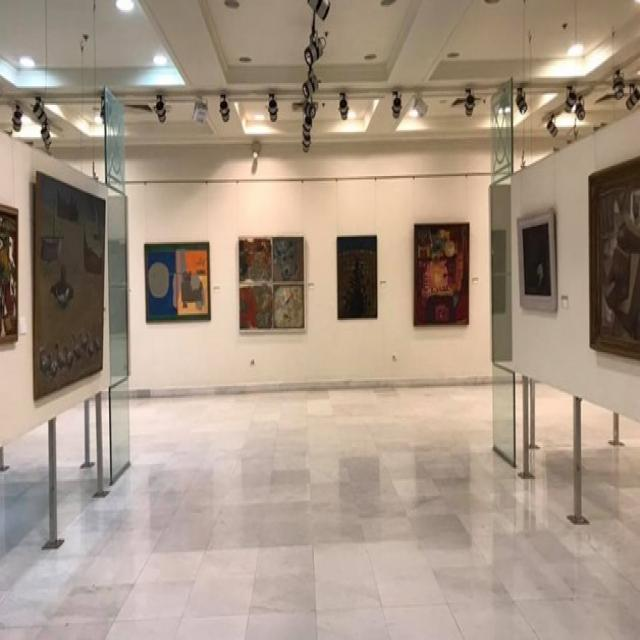Tablo: (33, 167, 106, 403), (587, 154, 639, 362), (237, 231, 306, 333), (412, 220, 471, 327), (143, 238, 211, 324), (516, 206, 558, 314), (336, 233, 378, 321)
